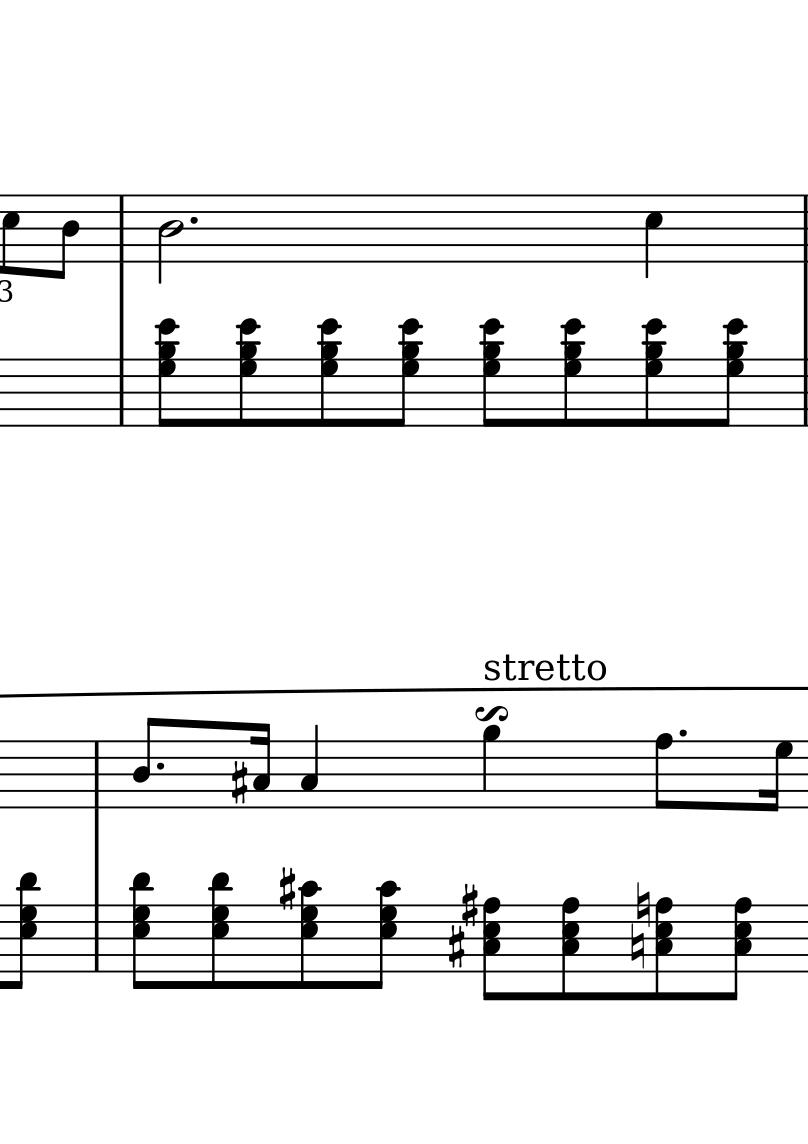16_3: (252, 720, 273, 809)
16_7: (763, 738, 794, 813)
2_4: (156, 193, 184, 287)
4_3: (299, 723, 320, 812)
4_5: (643, 192, 664, 281)
4_9: (481, 725, 503, 810)
8_4: (130, 716, 162, 808), (51, 192, 79, 281)
8_8: (654, 732, 675, 812)
8_th: (5, 865, 40, 992), (365, 878, 399, 992), (392, 316, 425, 427), (719, 316, 750, 427), (478, 316, 508, 426), (558, 316, 588, 426), (128, 873, 155, 993), (640, 316, 669, 426), (207, 871, 234, 989), (297, 880, 326, 989), (314, 316, 343, 425), (154, 317, 183, 425), (235, 315, 263, 426), (726, 896, 754, 1003), (652, 896, 679, 1004), (480, 895, 507, 1002), (557, 895, 583, 1002)
Inverted_turn: (474, 705, 509, 723)
Natural: (628, 924, 646, 974), (634, 881, 652, 925)
Sharp: (275, 866, 298, 912), (461, 880, 480, 926), (447, 926, 466, 972), (231, 759, 249, 806)
Single_barline: (88, 904, 107, 971), (87, 742, 106, 808), (113, 196, 131, 263), (114, 358, 130, 426), (794, 358, 808, 427), (794, 196, 808, 262)
dot: (676, 725, 691, 741), (187, 212, 201, 229), (155, 759, 167, 775)
